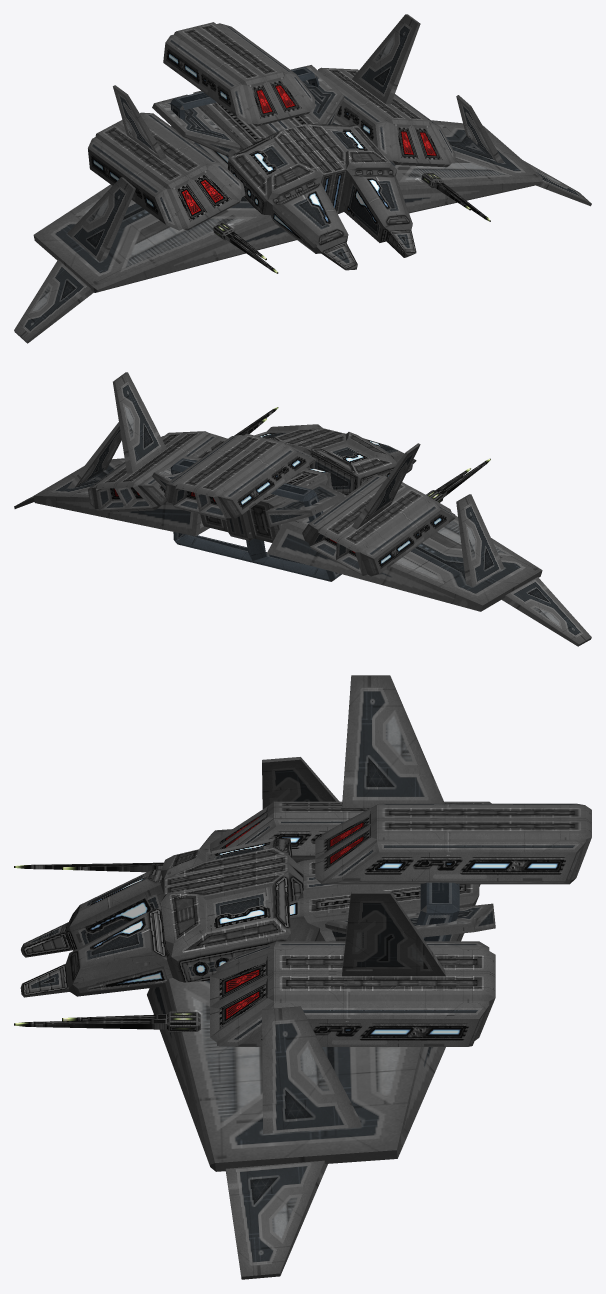
File: zarykorStarship03.FBX
3 renders of one model, top to bottom at view 1: azimuth 30°, elevation 25°; view 2: azimuth 150°, elevation 25°; view 3: azimuth 270°, elevation 25°, orthographic. The views are drawn at different scales.
Visible parts, largest first — view 1: ZarykorStarship03; view 2: ZarykorStarship03; view 3: ZarykorStarship03.
Part boxes in pixels (bbox=[...]): ZarykorStarship03: bbox=[14, 14, 591, 343]; ZarykorStarship03: bbox=[14, 372, 591, 646]; ZarykorStarship03: bbox=[14, 675, 591, 1279].
Bounding box in the file's own units: 2.25 × 1.31 × 0.72.
